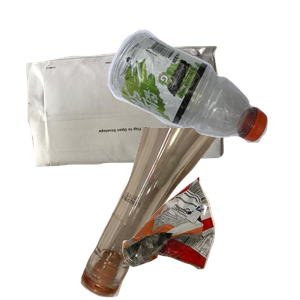glass: (78, 128, 298, 300)
paper: (24, 43, 242, 202)
plastic: (105, 27, 300, 162)
trash: (120, 174, 300, 300)
